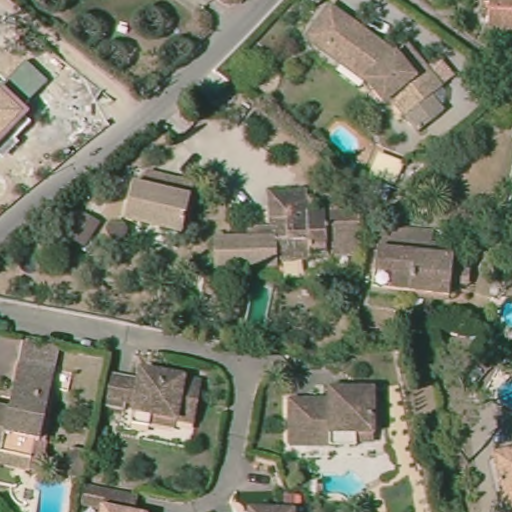pool: (233, 277, 277, 332), (34, 469, 72, 512), (318, 467, 369, 499), (325, 122, 363, 160), (494, 369, 512, 411), (494, 294, 512, 334)
